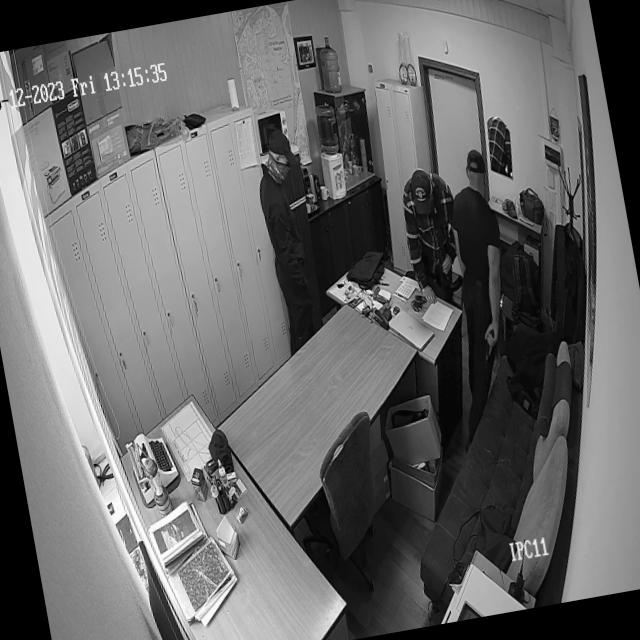gun: (430, 214, 470, 318), (478, 316, 508, 367)
person: (249, 134, 324, 356)
person with a gun: (422, 149, 532, 431), (396, 167, 469, 309)
